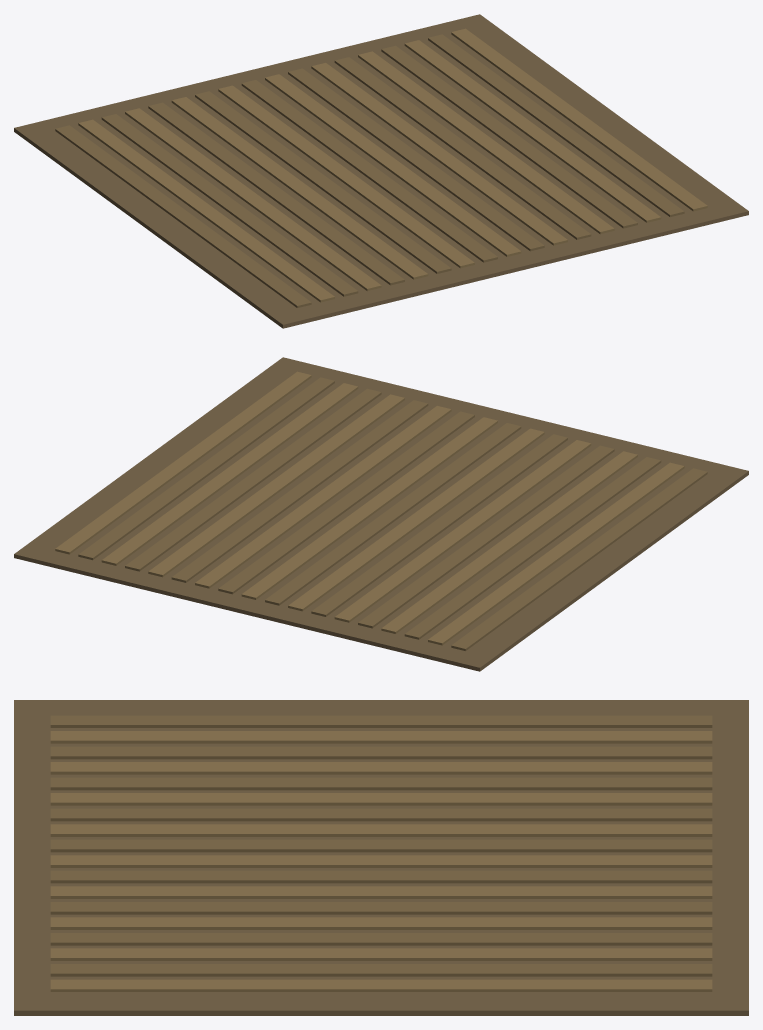
Rendered from farmland.glb.
3 views of the same model, one above another, from view 1: azimuth 30°, elevation 25°; view 2: azimuth 150°, elevation 25°; view 3: azimuth 270°, elevation 25° (orthographic). The views are drawn at different scales.
Parts seen in each view (by area): view 1: farmland; view 2: farmland; view 3: farmland.
Boxes of the visible parts, box(x1,y1,x2,y2) form: farmland: box(14, 14, 748, 328); farmland: box(14, 357, 748, 671); farmland: box(14, 700, 748, 1015).
Size of the model in its own units: 20 by 0.25 by 20.
